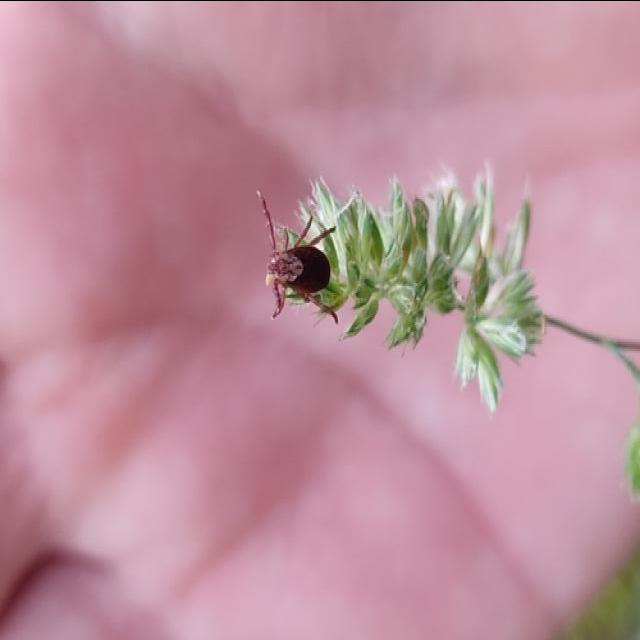Dermacentor Reticulatus-F: (257, 189, 338, 323)
